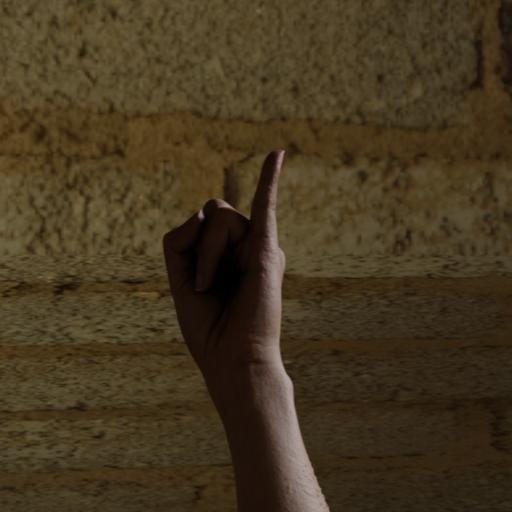I: (152, 132, 324, 406)
